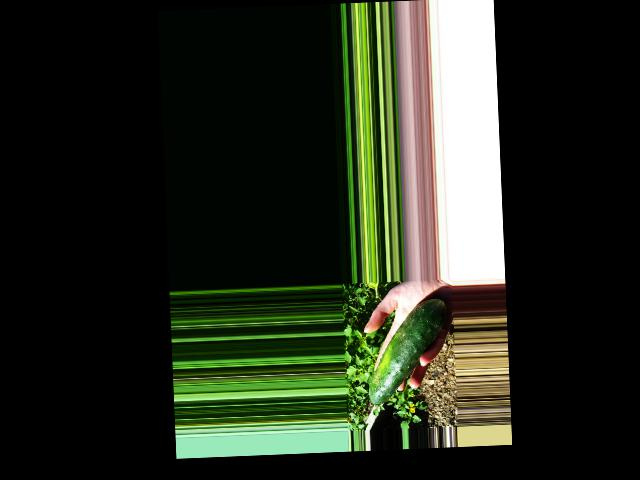cucumber: (365, 299, 450, 405)
